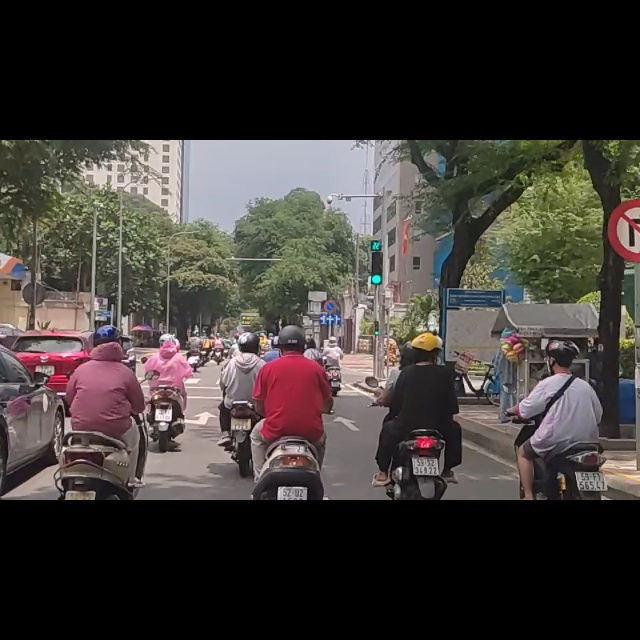bien_cam: (323, 281, 339, 308)
